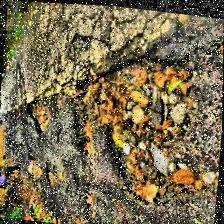pothole: (65, 45, 223, 210), (24, 96, 54, 132), (24, 156, 43, 182)
